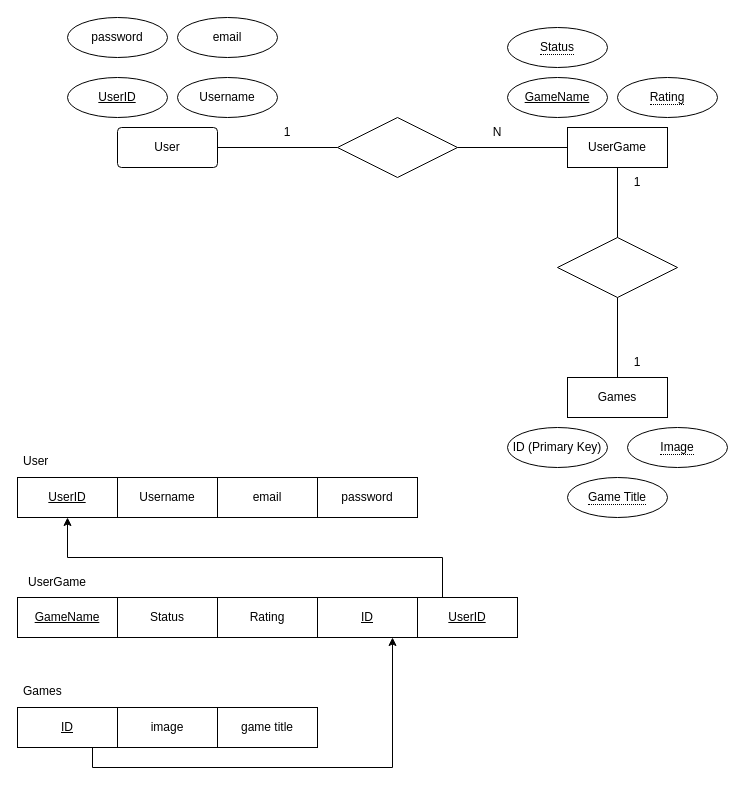
Some shapes in this 745 by 793 pixel diagram are drawn without their labels. The shapes that lost their labels are listed below. From the top down, each one's box as (x1, y1, x2, y2) in pixels, then its label:
(336, 116, 458, 178): Has a list of
(556, 236, 678, 298): references
